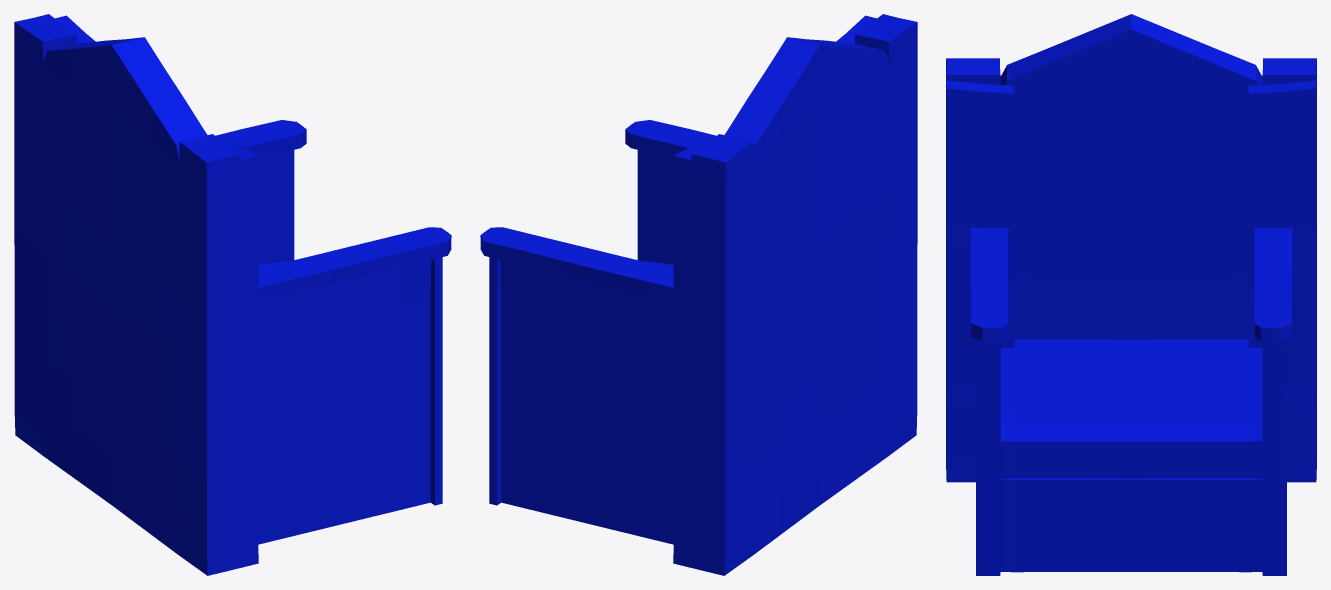
Rendered from Throne.fbx.
3 views of the same model, side by side, from view 1: azimuth 30°, elevation 25°; view 2: azimuth 150°, elevation 25°; view 3: azimuth 270°, elevation 25° (orthographic). The views are drawn at different scales.
Parts seen in each view (by area): view 1: Plane; view 2: Plane; view 3: Plane.
Boxes of the visible parts, x1,y1,x2,y2 form: Plane: [14, 14, 451, 575]; Plane: [480, 14, 917, 575]; Plane: [946, 14, 1316, 575].
Bounding box in the file's own units: 343 × 573 × 434.
